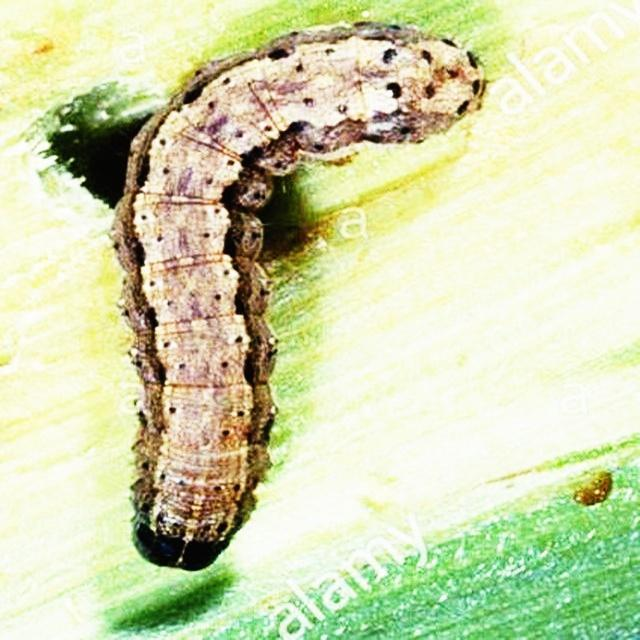gusano_cogollero: (116, 17, 490, 578)
